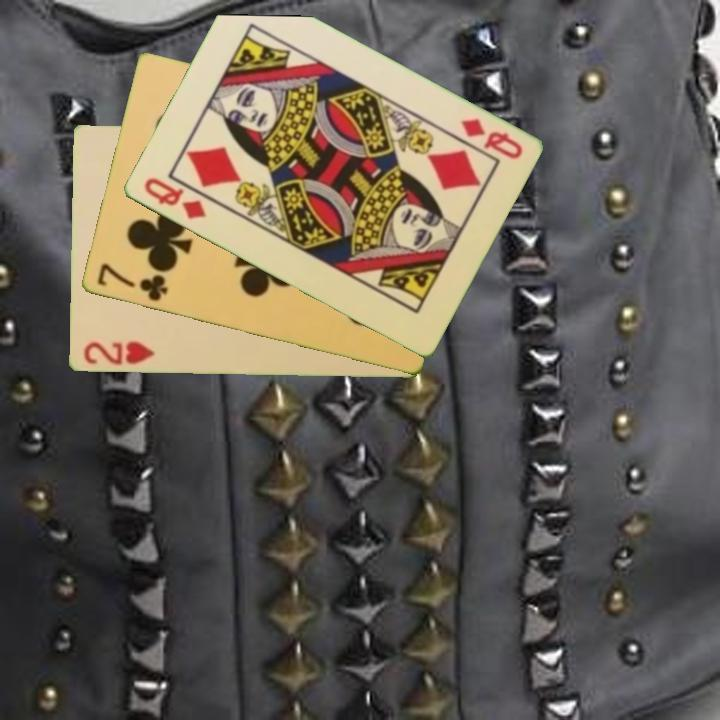2h: (80, 338, 157, 369)
7c: (93, 260, 170, 305)
Qd: (140, 174, 209, 222), (457, 115, 525, 163)
